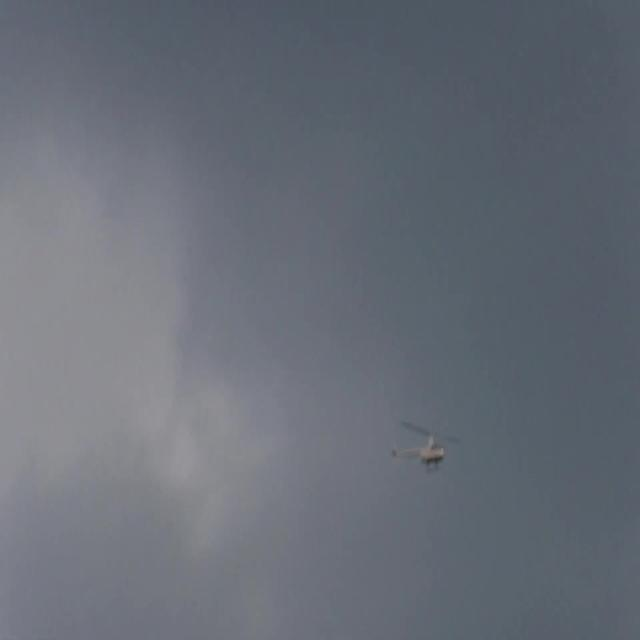CIV_HELO: (392, 430, 447, 476)
